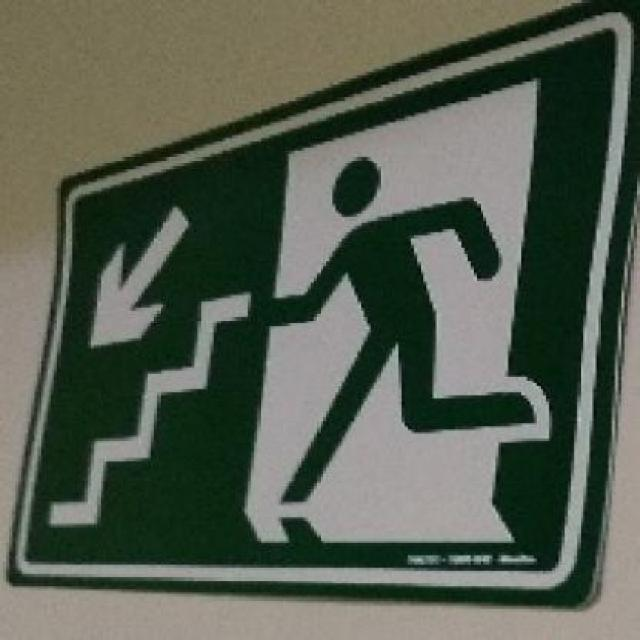emergency_exit: (7, 2, 637, 609)
